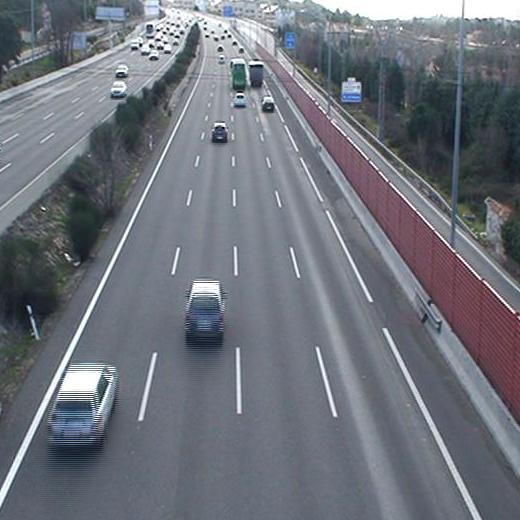bus: (231, 59, 247, 89)
car: (49, 363, 118, 445), (185, 281, 223, 340), (212, 122, 228, 142), (260, 95, 273, 110), (234, 92, 246, 106), (218, 55, 225, 64)
small-truck: (250, 61, 264, 87)
